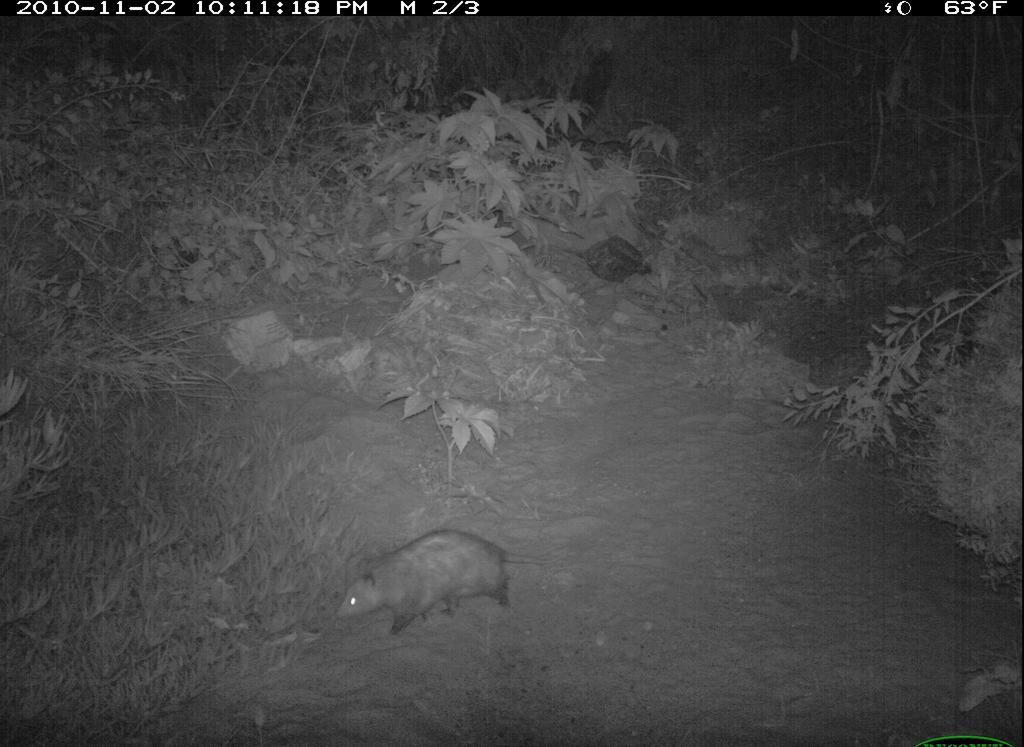opossum: (332, 523, 556, 643)
